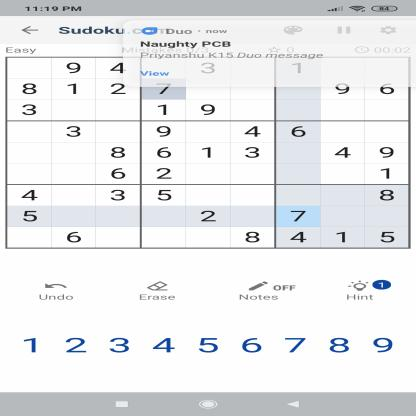sudoku: (1, 54, 414, 252)
